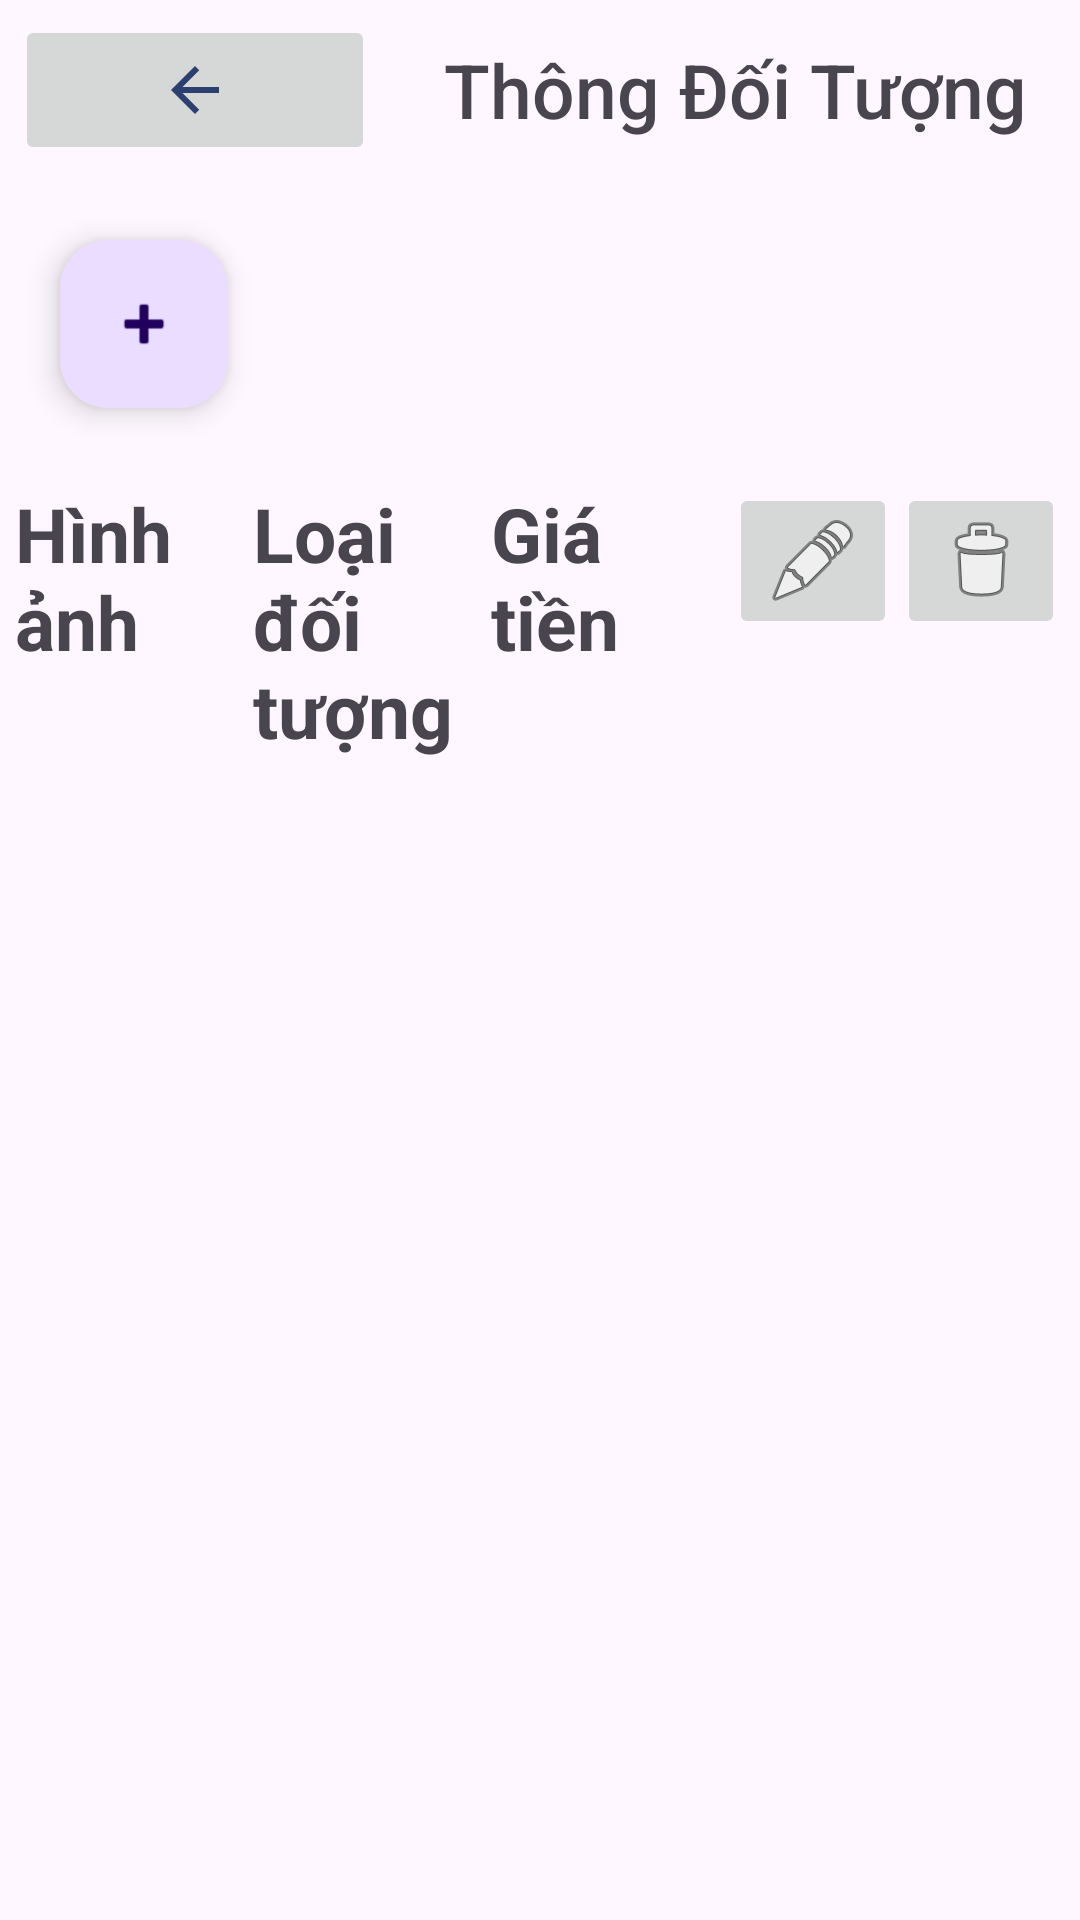

Named icons in this screenshot (1080 x 1920) and their centers, [x,y]:
add: [144,324]
back: [195,90]
delete: [981,561]
edit: [813,561]
